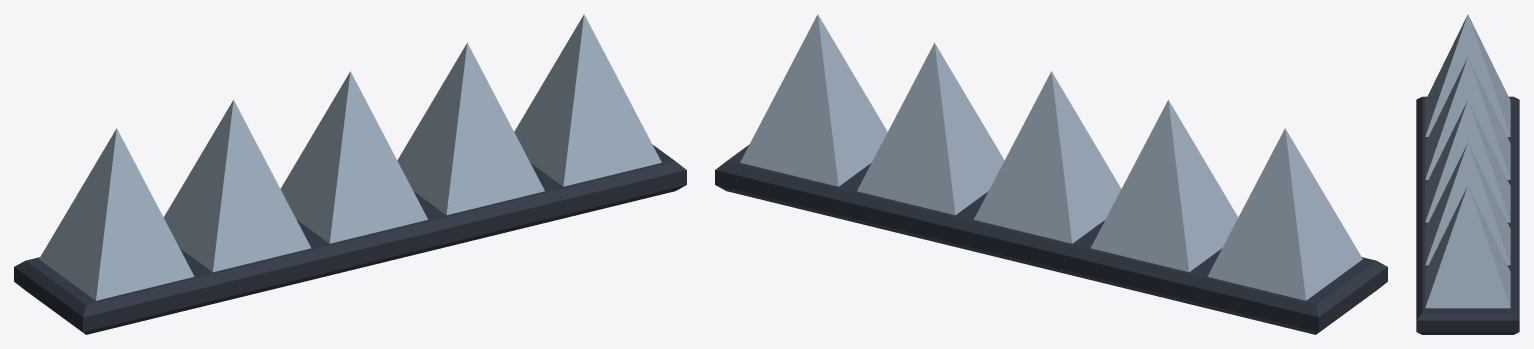
Rendered from SpikeTrap.obj.
The picture shows the model from 3 angles, left to right: view 1: azimuth 30°, elevation 25°; view 2: azimuth 150°, elevation 25°; view 3: azimuth 270°, elevation 25°; orthographic projection. The views are drawn at different scales.
Parts seen in each view (by area): view 1: Base, Spike_1, Spike_2, Spike_4, Spike_3, Spike_5; view 2: Base, Spike_1, Spike_2, Spike_4, Spike_3, Spike_5; view 3: Base, Spike_5, Spike_1, Spike_2, Spike_3, Spike_4.
Part boxes in pixels (left/top/right/bottom): Base: left=14, top=144, right=686, bottom=334; Spike_1: left=39, top=128, right=194, bottom=300; Spike_2: left=163, top=100, right=310, bottom=272; Spike_4: left=397, top=42, right=544, bottom=215; Spike_3: left=280, top=71, right=427, bottom=243; Spike_5: left=514, top=14, right=661, bottom=186; Base: left=715, top=144, right=1387, bottom=334; Spike_1: left=1207, top=128, right=1362, bottom=300; Spike_2: left=1091, top=100, right=1238, bottom=272; Spike_4: left=857, top=42, right=1004, bottom=215; Spike_3: left=974, top=71, right=1121, bottom=243; Spike_5: left=740, top=14, right=887, bottom=186; Base: left=1416, top=96, right=1519, bottom=334; Spike_5: left=1425, top=186, right=1510, bottom=308; Spike_1: left=1425, top=14, right=1510, bottom=136; Spike_2: left=1425, top=57, right=1510, bottom=179; Spike_3: left=1425, top=100, right=1510, bottom=222; Spike_4: left=1425, top=143, right=1510, bottom=265.
Bounding box in the file's own units: 4.65 × 1.25 × 0.92.
